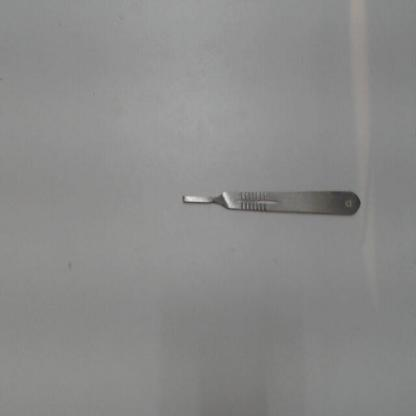No.4 BP Handle: (174, 181, 370, 222)
